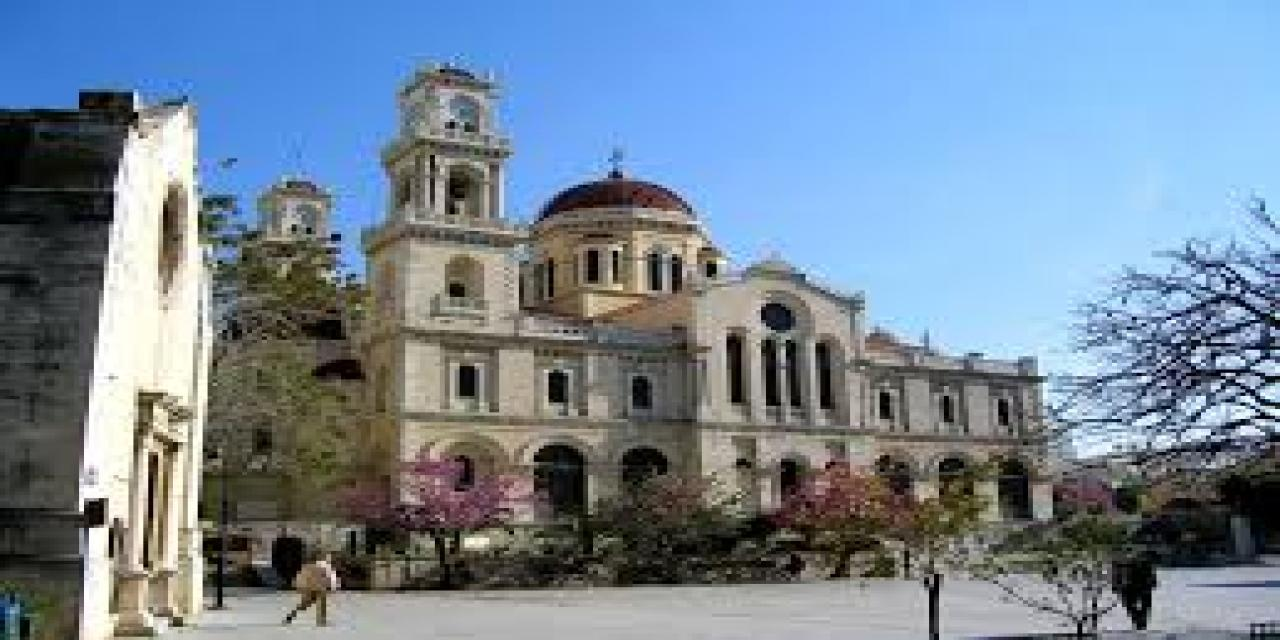Agios Minas: (1, 65, 1063, 640)
